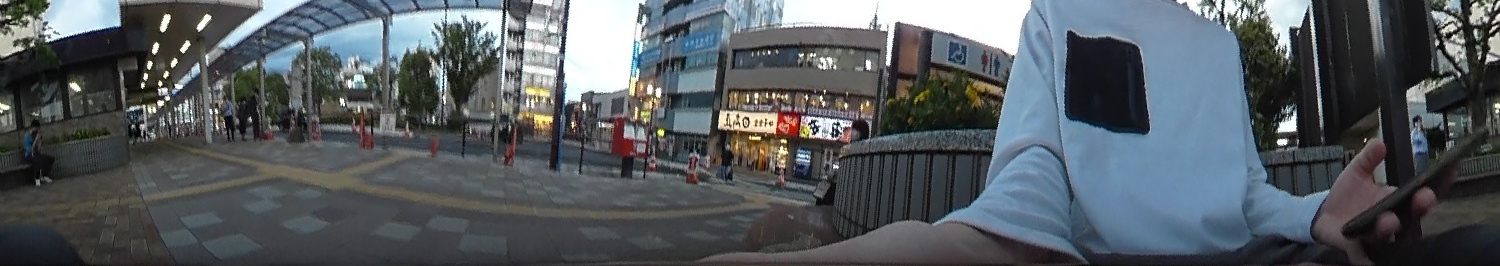difficult_person: (245, 85, 267, 140), (215, 92, 236, 135), (714, 143, 735, 181), (233, 95, 250, 139), (128, 108, 144, 141)
person: (811, 114, 876, 201), (14, 117, 61, 186), (1407, 114, 1437, 178)
